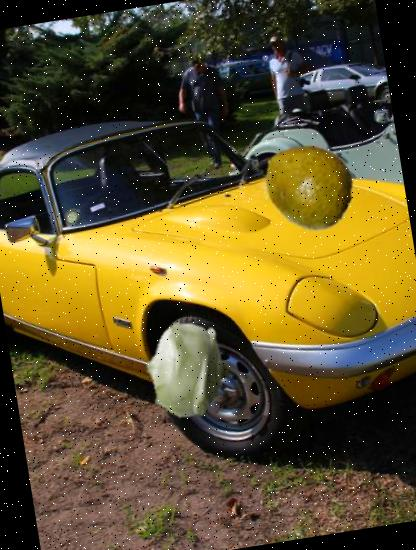Guava: (255, 133, 360, 238)
Kohlrabi: (132, 314, 244, 426)
